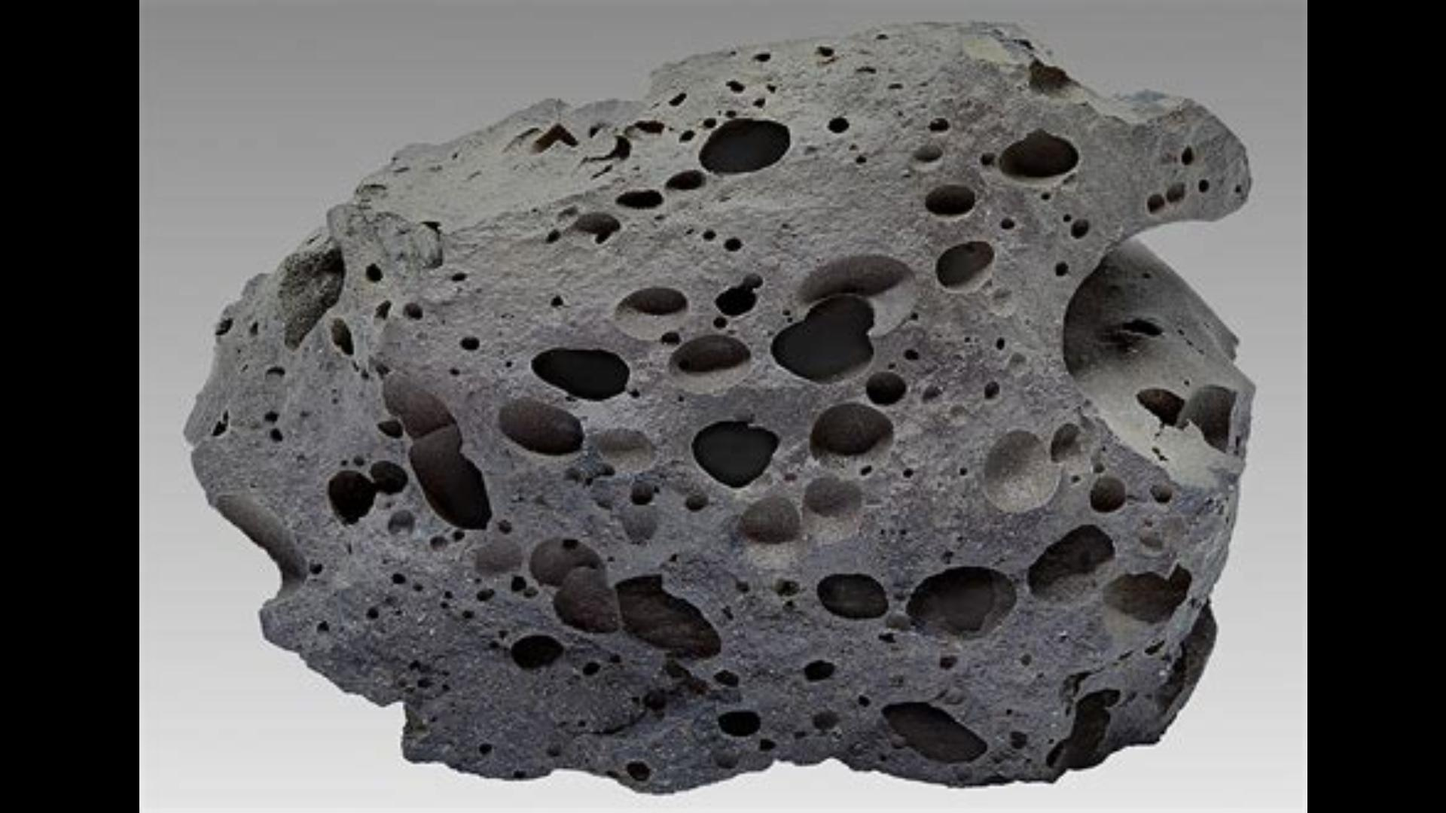rock: (185, 30, 1248, 791)
